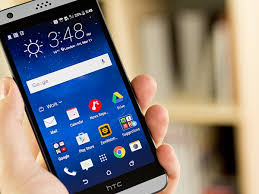htc: (1, 2, 168, 193)
